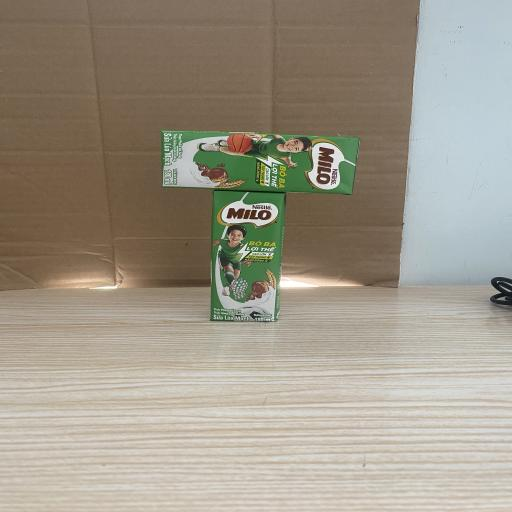milo: (161, 130, 360, 195), (210, 190, 286, 322)
